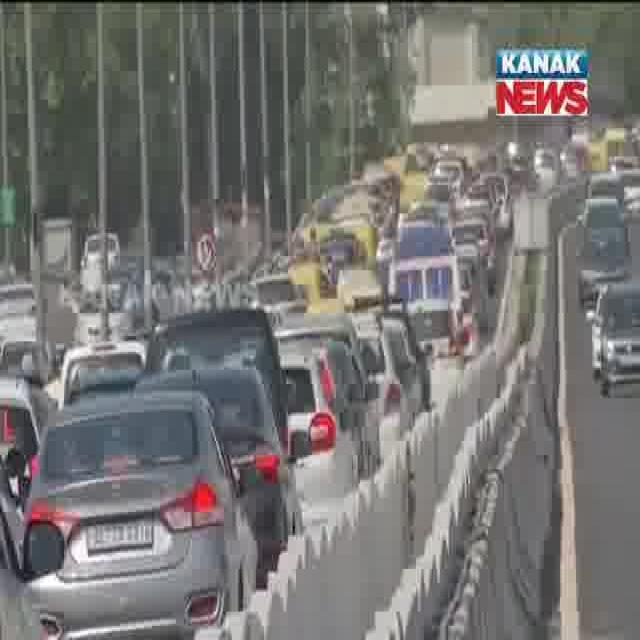ambulance: (387, 230, 461, 290)
